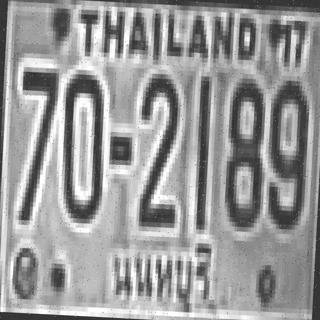N00: (57, 69, 106, 220)
N01: (191, 74, 212, 228)
N02: (135, 68, 181, 224)
N07: (15, 65, 58, 219)
N08: (221, 75, 264, 225)
N09: (265, 75, 308, 225)
